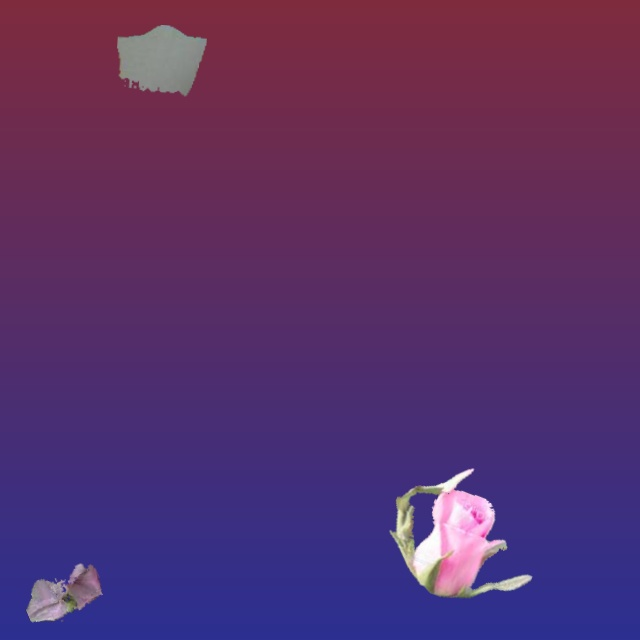butterfly flower: (26, 564, 102, 621)
passion flower: (117, 25, 206, 95)
rose: (390, 469, 531, 597)
